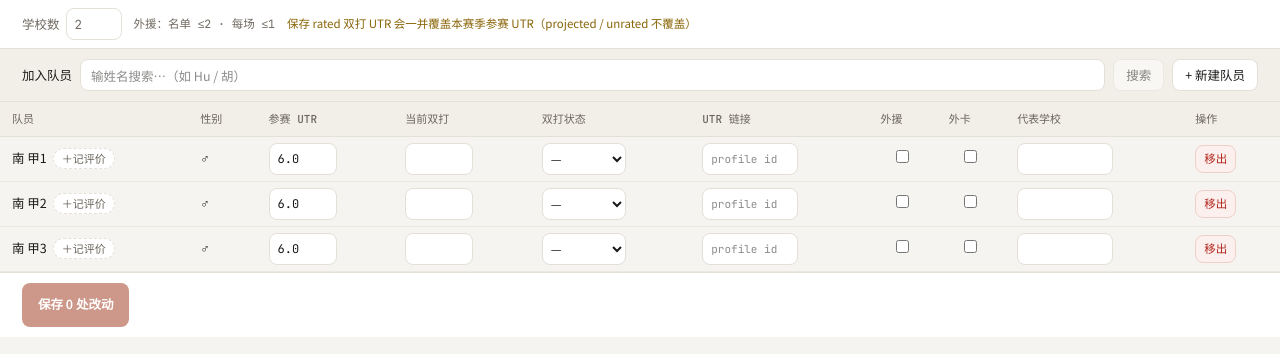
Test: TeamEditPanel › warns (but still allows save) when borrowed exceeds the roster cap
The width and height of the screenshot is (1280, 354).
Click the checkbox named "外援 南 甲1" at (903, 157), box top-left (896, 150), bottom-right (909, 163)
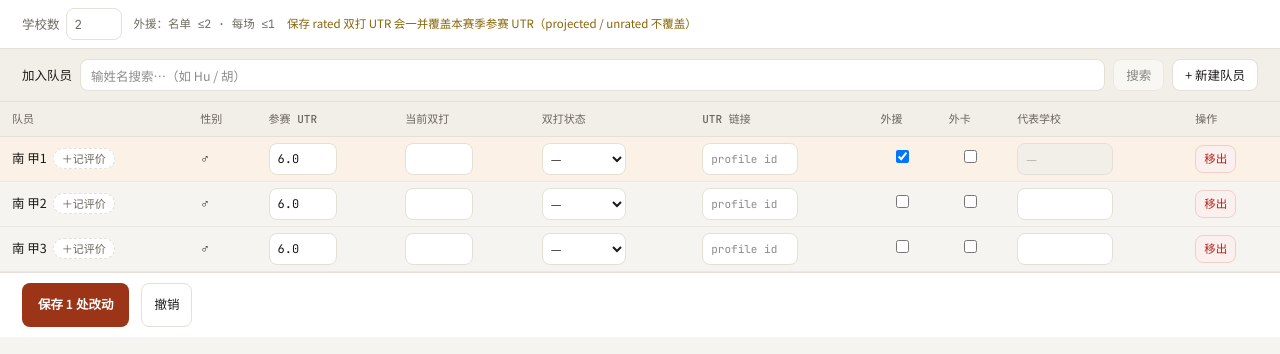
Click the checkbox named "外援 南 甲2" at (903, 202), box top-left (896, 195), bottom-right (909, 208)
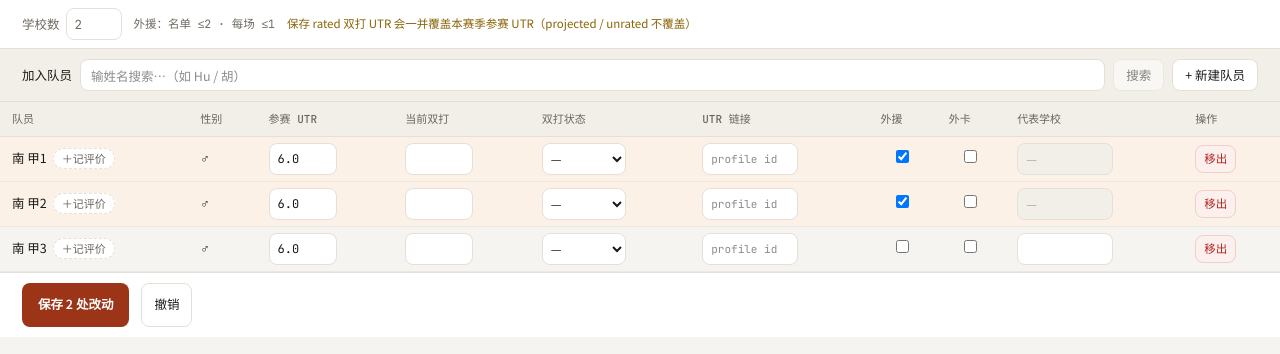
Click the checkbox named "外援 南 甲3" at (903, 247), box top-left (896, 240), bottom-right (909, 253)
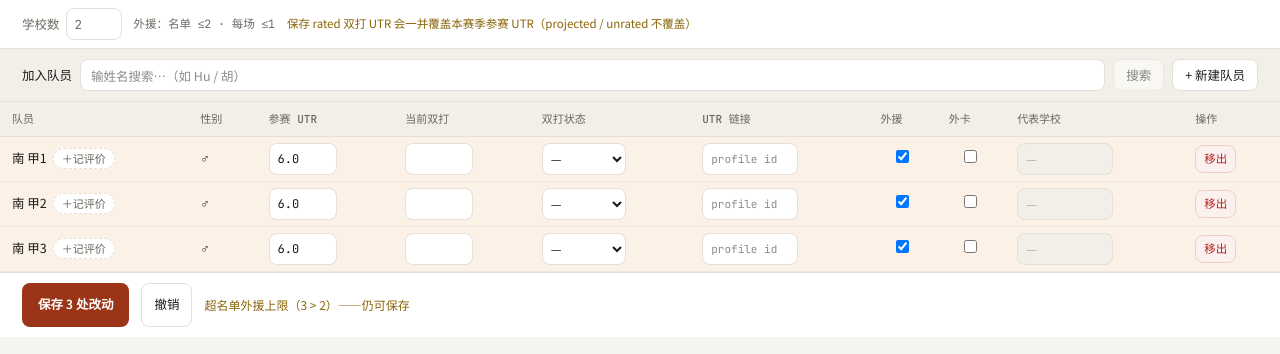
Result: the button "保存 3 处改动" is enabled at top-left (22, 282), bottom-right (129, 326)
Result: the message shows "超名单外援上限" at top-left (204, 296), bottom-right (300, 312)
